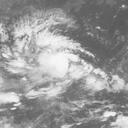cyclone: (31, 38, 74, 83)
